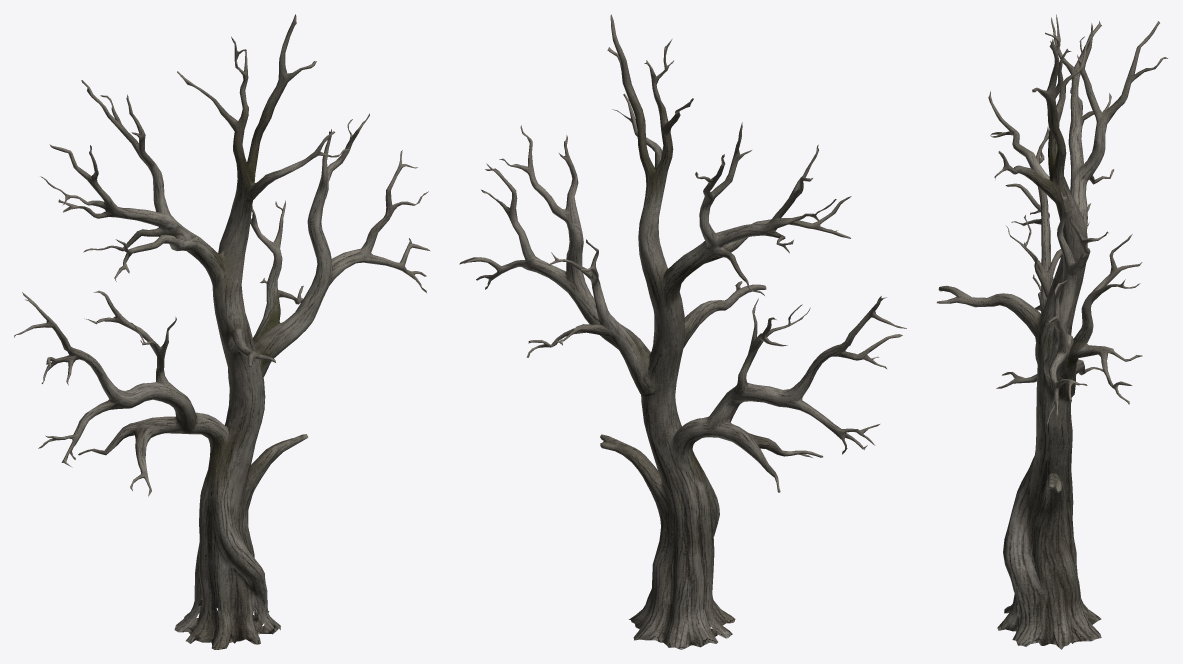
File: tree_dead.glb
The picture shows the model from 3 angles, left to right: view 1: azimuth 30°, elevation 25°; view 2: azimuth 150°, elevation 25°; view 3: azimuth 270°, elevation 25°; orthographic projection. The views are drawn at different scales.
Size of the model in its own units: 0.752 by 0.9944 by 0.3351.
Materials: 1 (1 with a texture image).
